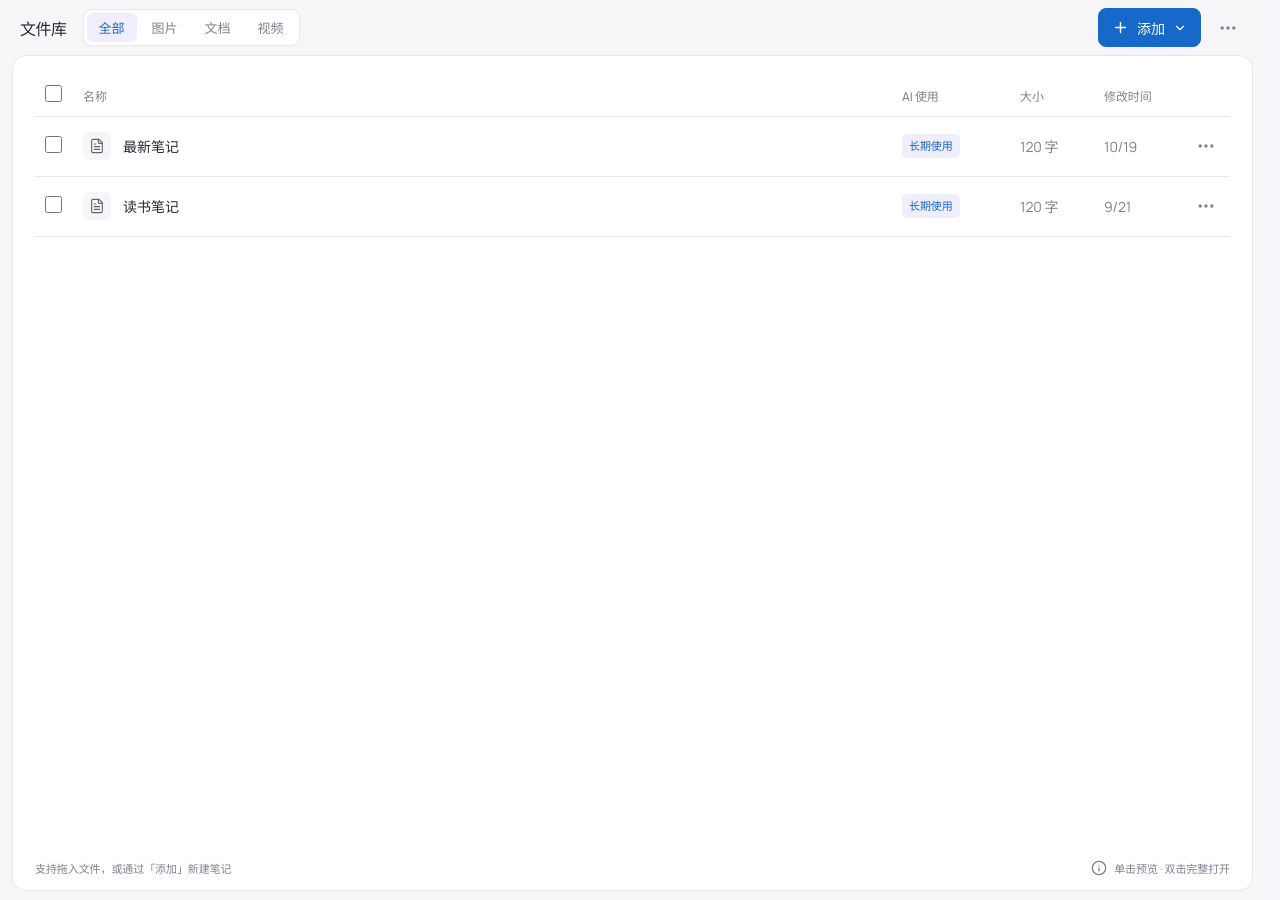
it: file library › shows the selected time order and sorts files accordingly
This screenshot has width=1280, height=900.
Click the button named "文件库更多选项" at {"x": 1228, "y": 28}, box top-left (1211, 10), bottom-right (1245, 44)
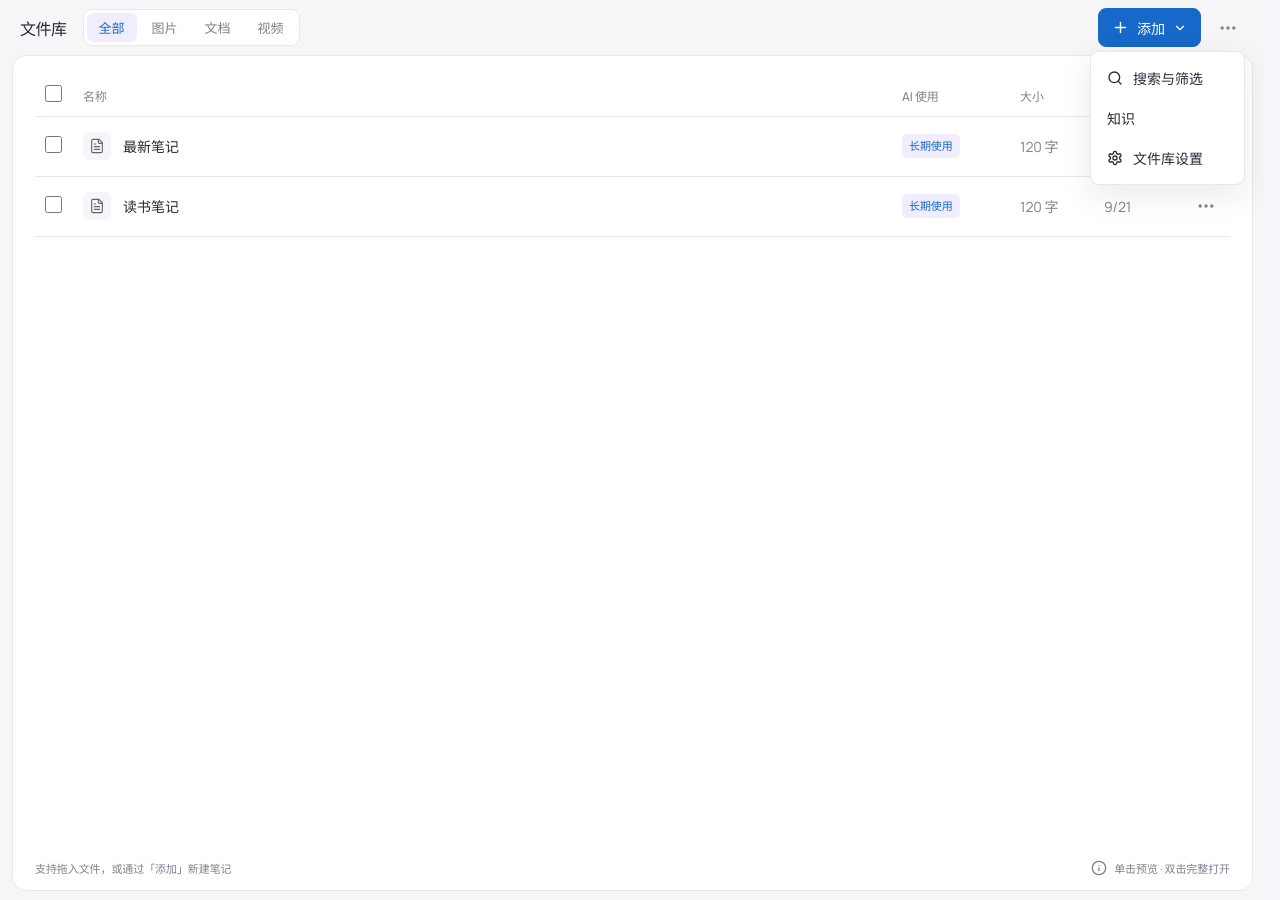
Click the button "搜索与筛选" at {"x": 1168, "y": 78}, box top-left (1097, 58), bottom-right (1238, 98)
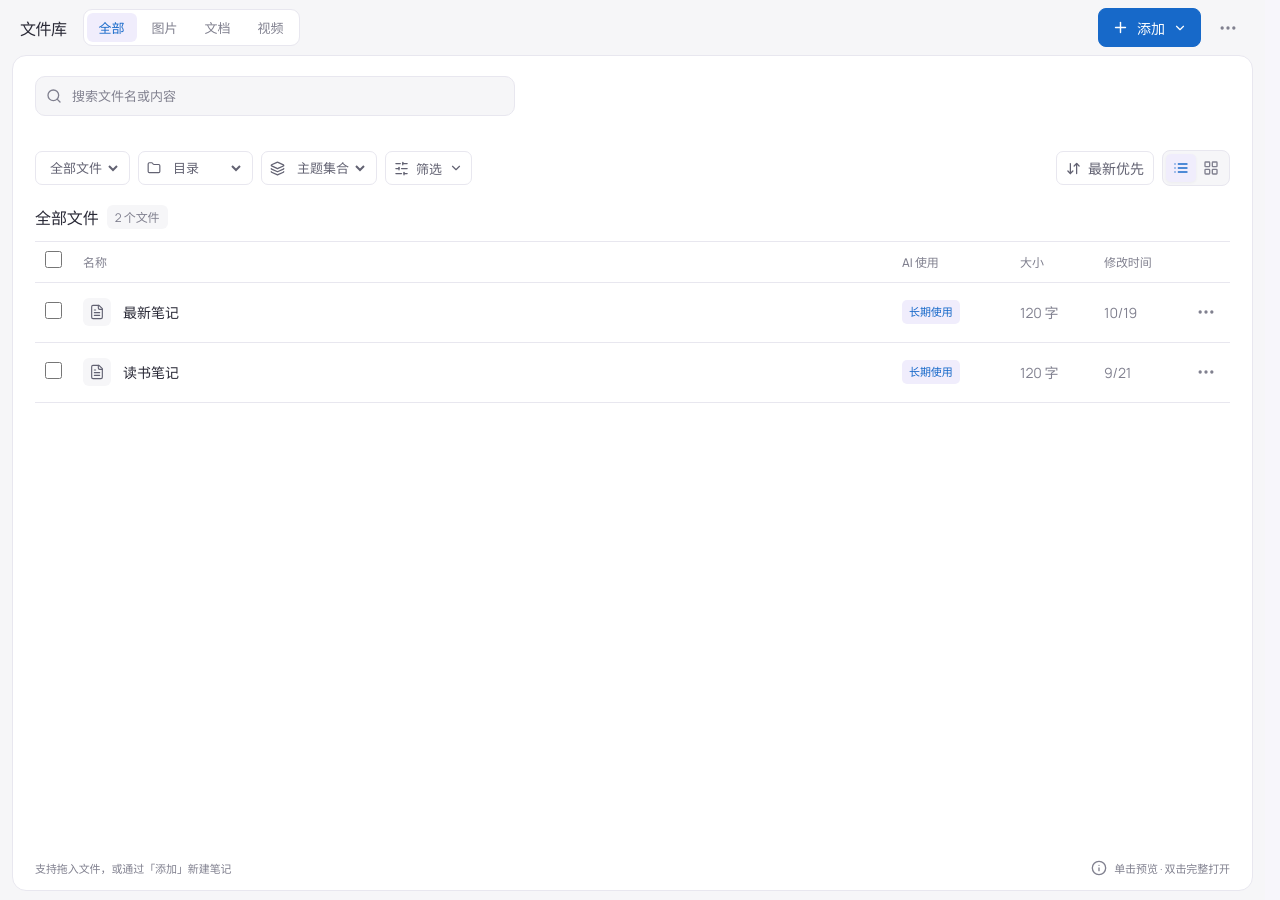
Check: the button with aria-label "按时间从旧到新" reads "最新优先"
Click the button with aria-label "按时间从旧到新" at {"x": 1105, "y": 168}, box top-left (1056, 151), bottom-right (1154, 185)
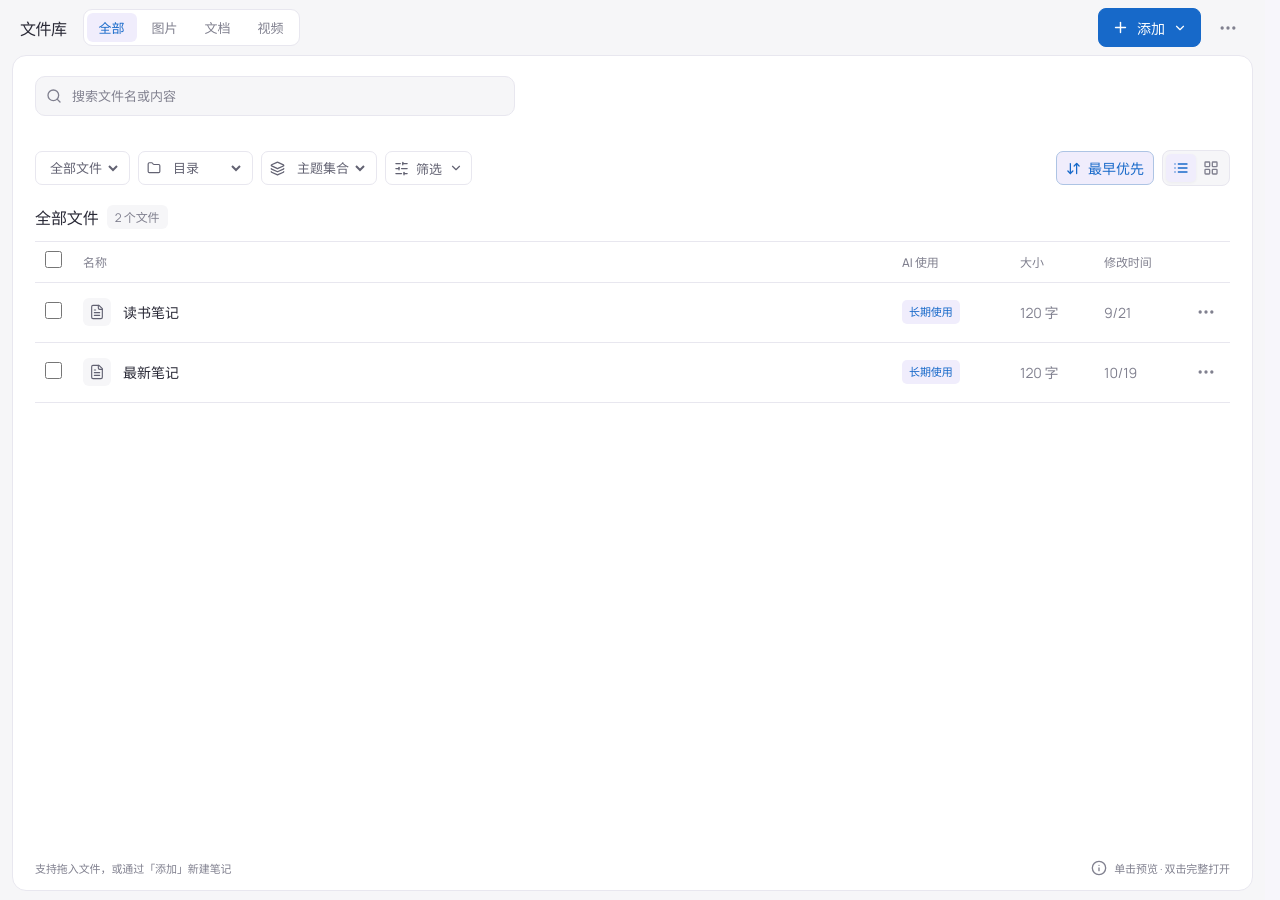
Check: the button named "按时间从旧到新" reads "最早优先"
Click the button named "按时间从旧到新" at {"x": 1105, "y": 168}, box top-left (1056, 151), bottom-right (1154, 185)
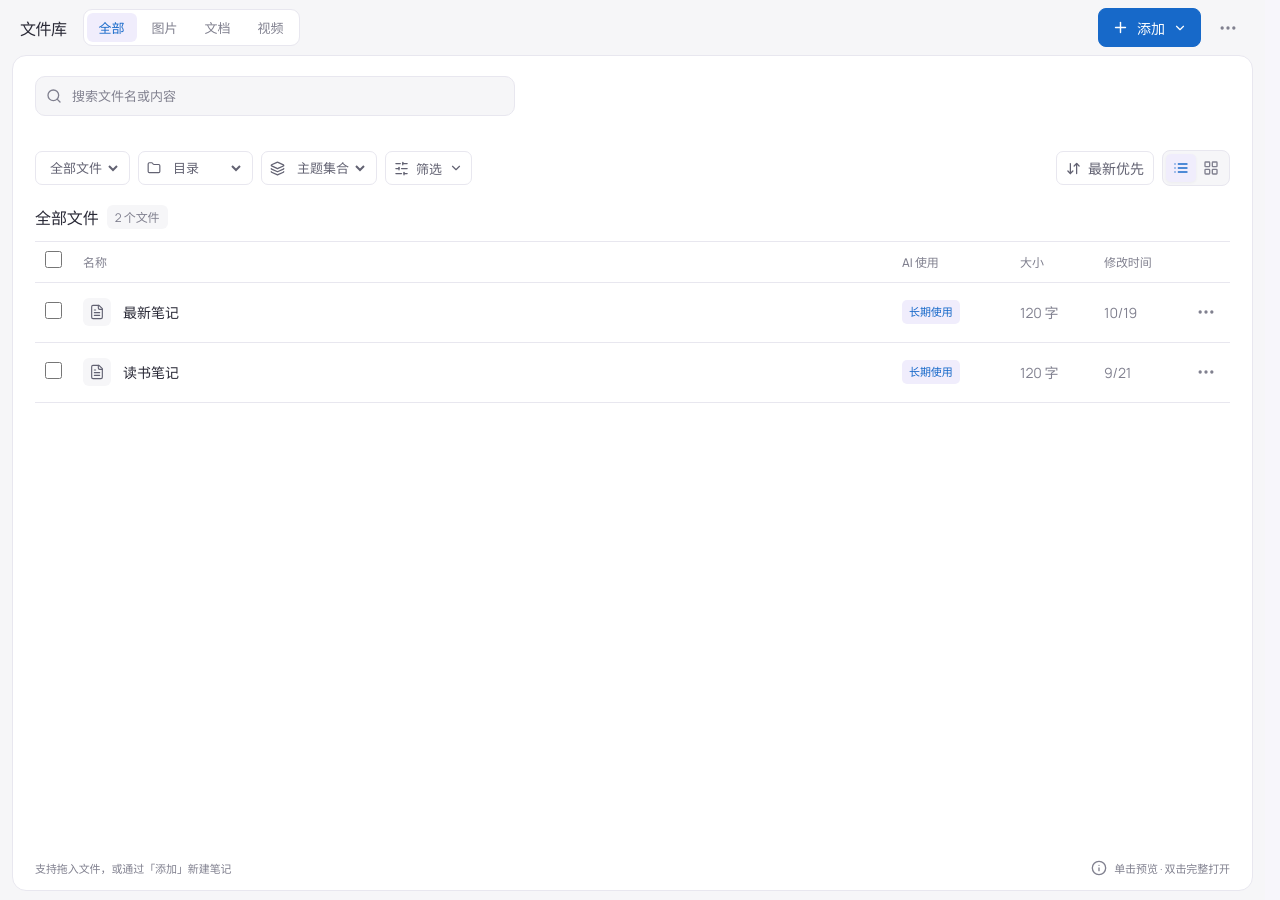
Check: the button with aria-label "按时间从旧到新" reads "最新优先", box top-left (1056, 151), bottom-right (1154, 185)
